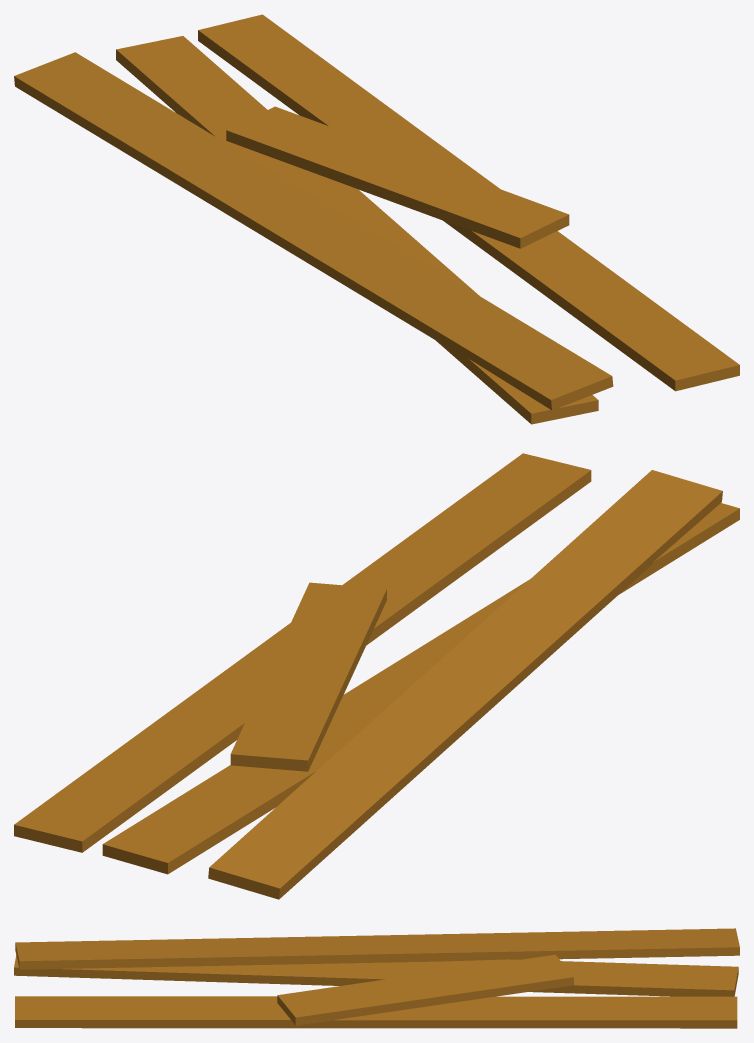
File: planks2.fbx
3 renders of one model, top to bottom at view 1: azimuth 30°, elevation 25°; view 2: azimuth 150°, elevation 25°; view 3: azimuth 270°, elevation 25°, orthographic. The views are drawn at different scales.
Visible parts, largest first — view 1: Cube.002; view 2: Cube.002; view 3: Cube.002.
Boxes of the visible parts, box(x1,y1,x2,y2) form: Cube.002: box(14, 14, 739, 424); Cube.002: box(14, 453, 739, 899); Cube.002: box(14, 928, 739, 1028).
Bounding box in the file's own units: 279 × 28.05 × 881.
